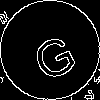G: (25, 25, 80, 83)
